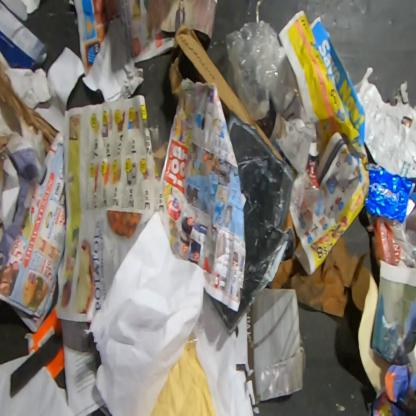cardboard: (168, 23, 285, 162), (264, 206, 371, 318), (0, 0, 50, 70)
metal: (364, 163, 415, 225)
rigid_plastic: (184, 306, 206, 348)
soft_plastic: (224, 18, 288, 123), (376, 206, 416, 268), (149, 119, 172, 180)
